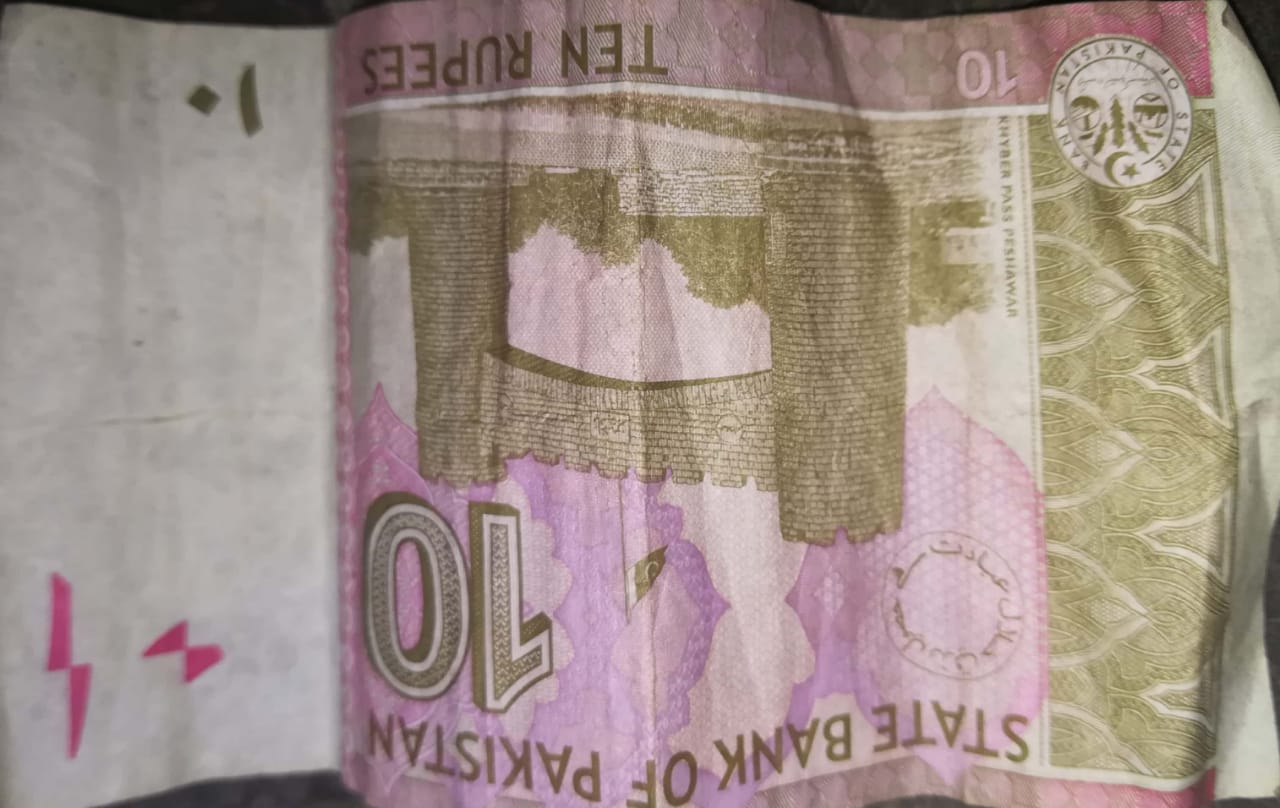10 rupee: (6, 8, 1280, 808)
